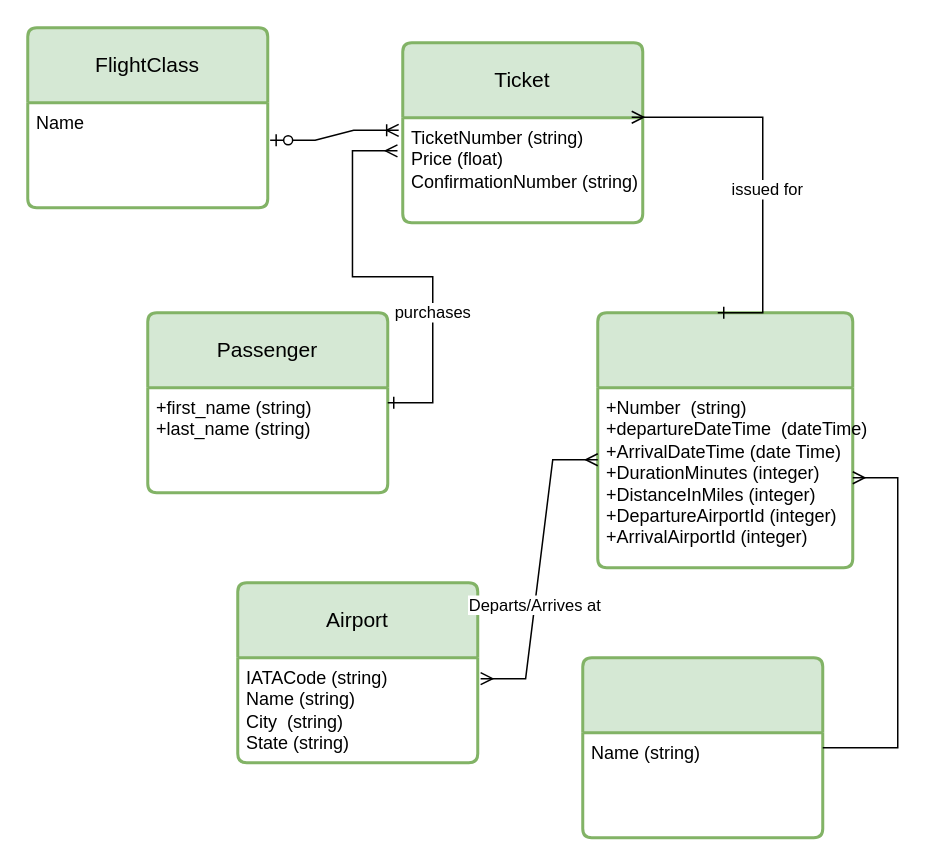
Some shapes in this 936 by 864 pixel diagram are drawn without their labels. The box of each missing label's shape, as (x1, y1, x2, y2) in pixels:
Airline: (580, 656, 824, 838)
Flight: (596, 310, 854, 568)
